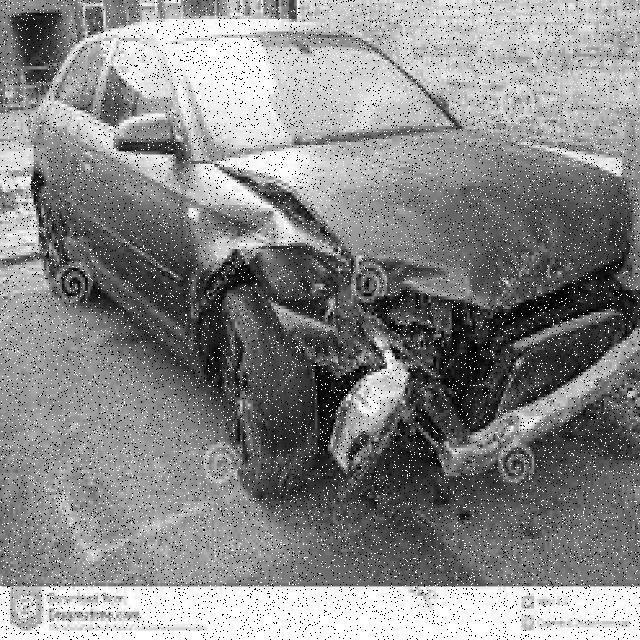bonnet-dent: (313, 125, 630, 295)
fender-dent: (194, 199, 331, 382)
front-bumper-dent: (333, 265, 637, 489)
